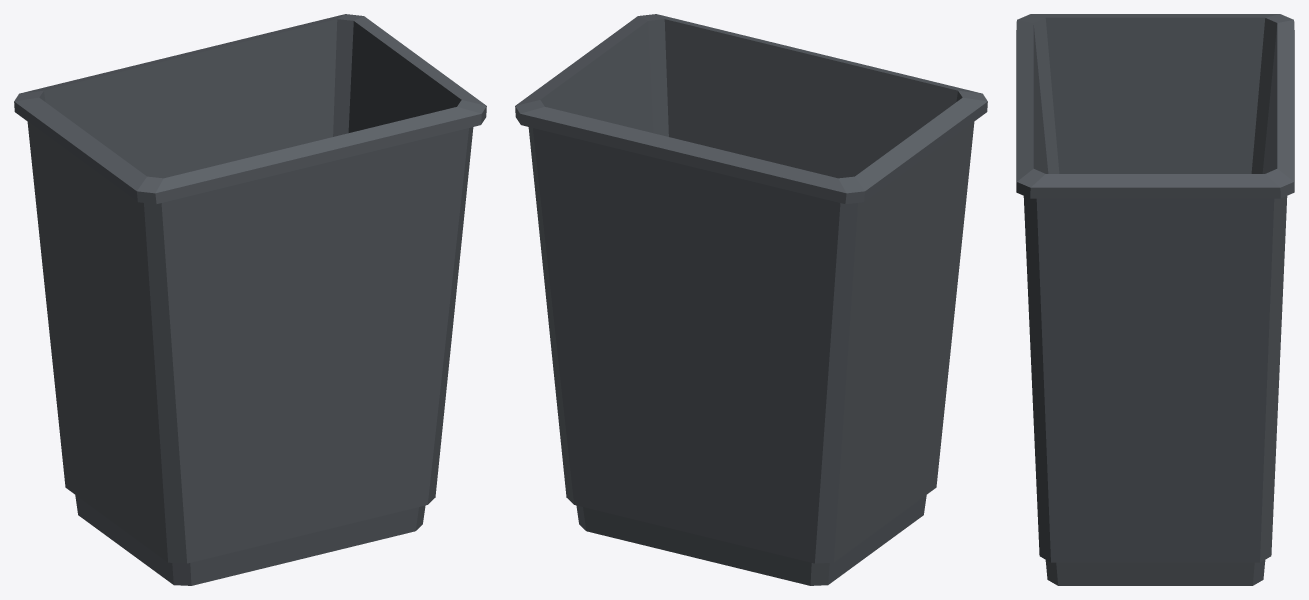
File: SM_Prop_Cafe_5.obj
The picture shows the model from 3 angles, left to right: view 1: azimuth 30°, elevation 25°; view 2: azimuth 150°, elevation 25°; view 3: azimuth 270°, elevation 25°; orthographic projection.
Parts seen in each view (by area): view 1: SM_Prop_Cafe_5_0; view 2: SM_Prop_Cafe_5_0; view 3: SM_Prop_Cafe_5_0.
Part boxes in pixels (x1,y1,x2,y2): SM_Prop_Cafe_5_0: (14, 14, 486, 585); SM_Prop_Cafe_5_0: (515, 14, 987, 585); SM_Prop_Cafe_5_0: (1016, 14, 1294, 585).
Size of the model in its own units: 0.5243 by 0.6026 by 0.3546.
Materials: 1 (1 with a texture image).
